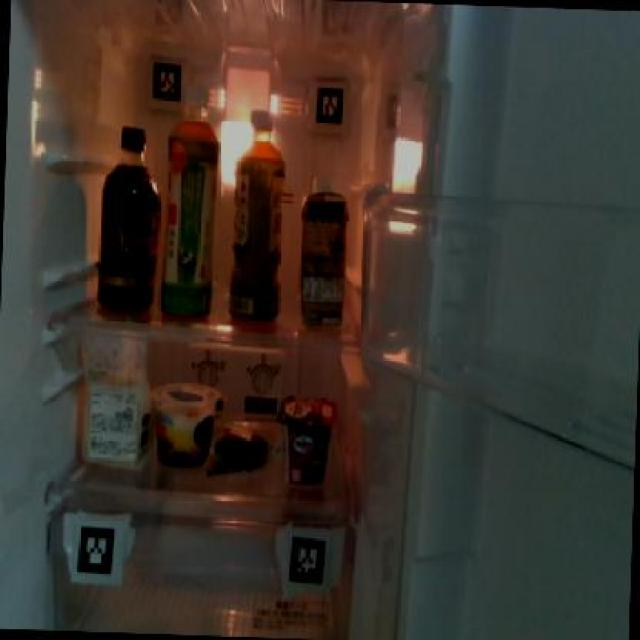coffee: (94, 118, 163, 316)
pudding: (149, 374, 211, 466)
rice_ball: (212, 420, 272, 478)
sandwich: (75, 329, 151, 466)
smoothie: (294, 167, 349, 335)
tea_a: (225, 106, 288, 320)
tea_i: (158, 106, 222, 320)
yogurt: (274, 391, 338, 484)
